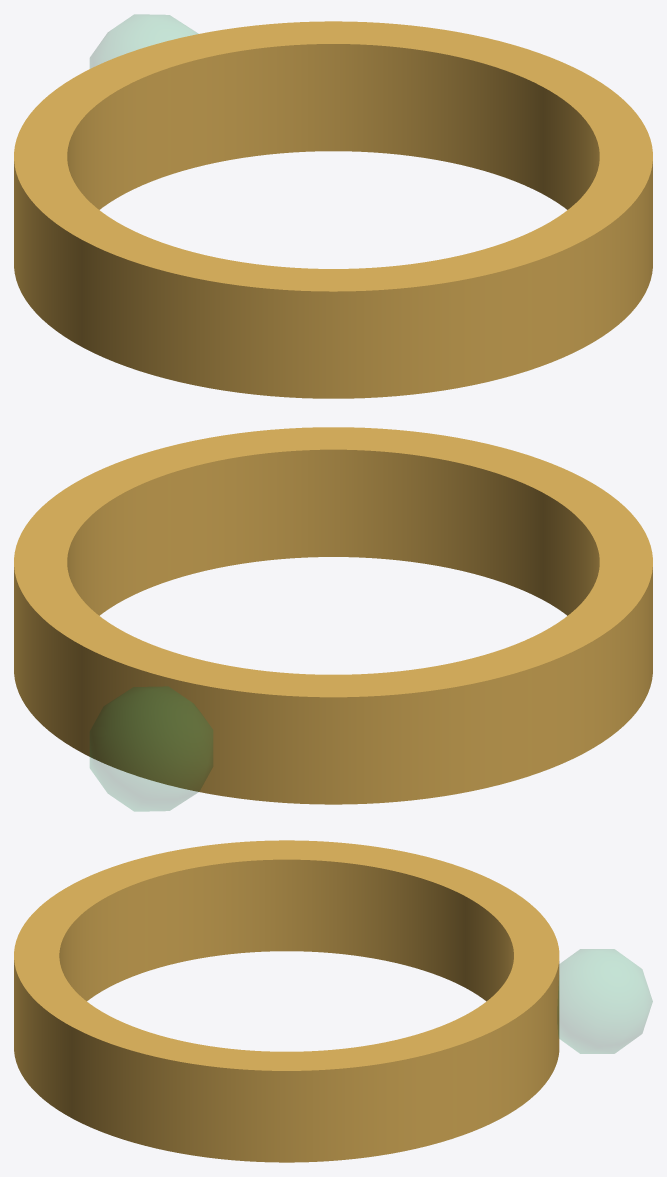
File: showcase.glb
3 views of the same model, one above another, from view 1: azimuth 30°, elevation 25°; view 2: azimuth 150°, elevation 25°; view 3: azimuth 270°, elevation 25° (orthographic). The views are drawn at different scales.
Parts seen in each view (by area): view 1: ring, gem; view 2: ring, gem; view 3: ring, gem.
Part boxes in pixels (<box>): ring: <box>14,21,652,398</box>; gem: <box>90,14,197,68</box>; ring: <box>14,427,652,804</box>; gem: <box>90,686,212,811</box>; ring: <box>14,840,559,1162</box>; gem: <box>557,949,652,1053</box>.
Size of the model in its own units: 0.0216 by 0.0044 by 0.0253.
